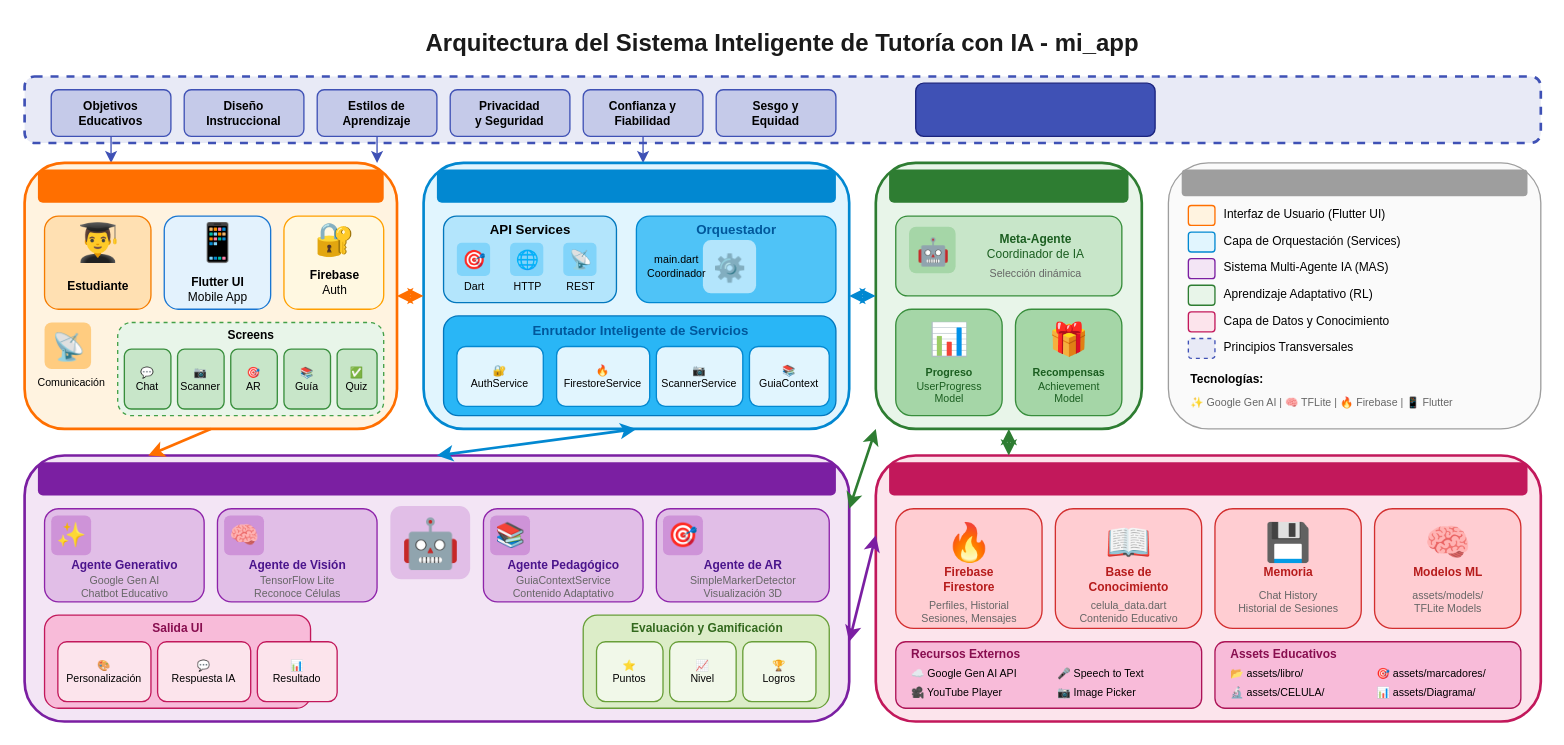
Some shapes in this 1564 by 745 pixel diagram are drawn without their labels. The shapes that lost their labels are listed below. From the top down, each one's centre as x and y in pixels, then its label:
At point 1034,109: "Sistema de Tutoría Inteligente".
At point 210,185: "Interfaz de Usuario (UI)".
At point 635,185: "Capa de Orquestación de Servicios".
At point 1008,185: "Aprendizaje Adaptativo".
At point 1354,182: "LEYENDA".
At point 436,478: "Sistema de Agentes de IA (MAS)".
At point 1207,478: "Capa de Gestión de Datos y Base de Conocimiento".
